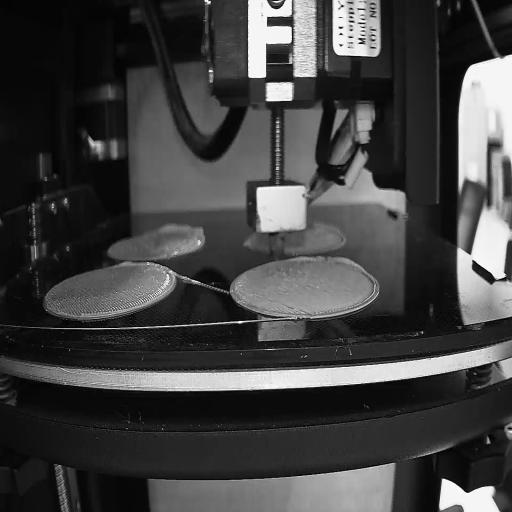over_extrusion: (160, 221, 205, 240), (364, 272, 380, 304), (334, 254, 360, 271), (288, 254, 314, 267), (334, 231, 348, 248), (117, 259, 136, 269), (342, 302, 363, 311)
